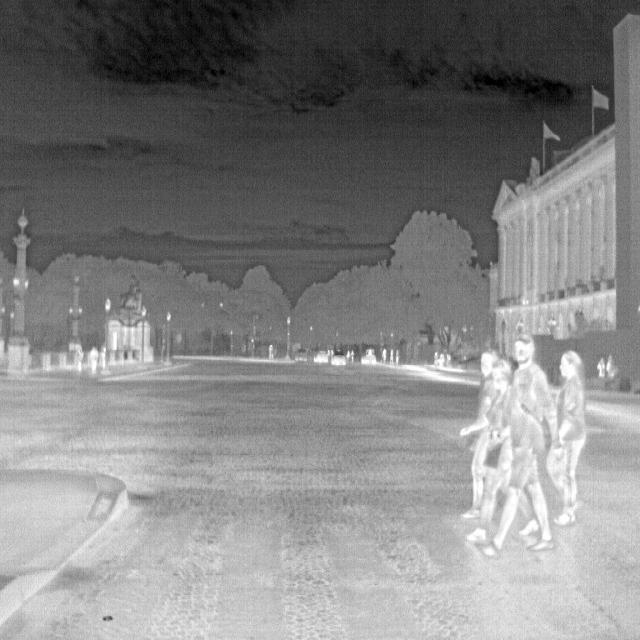Pedestrian: (480, 337, 556, 555), (467, 358, 542, 538), (457, 348, 507, 521), (546, 347, 586, 530), (88, 345, 97, 373)
